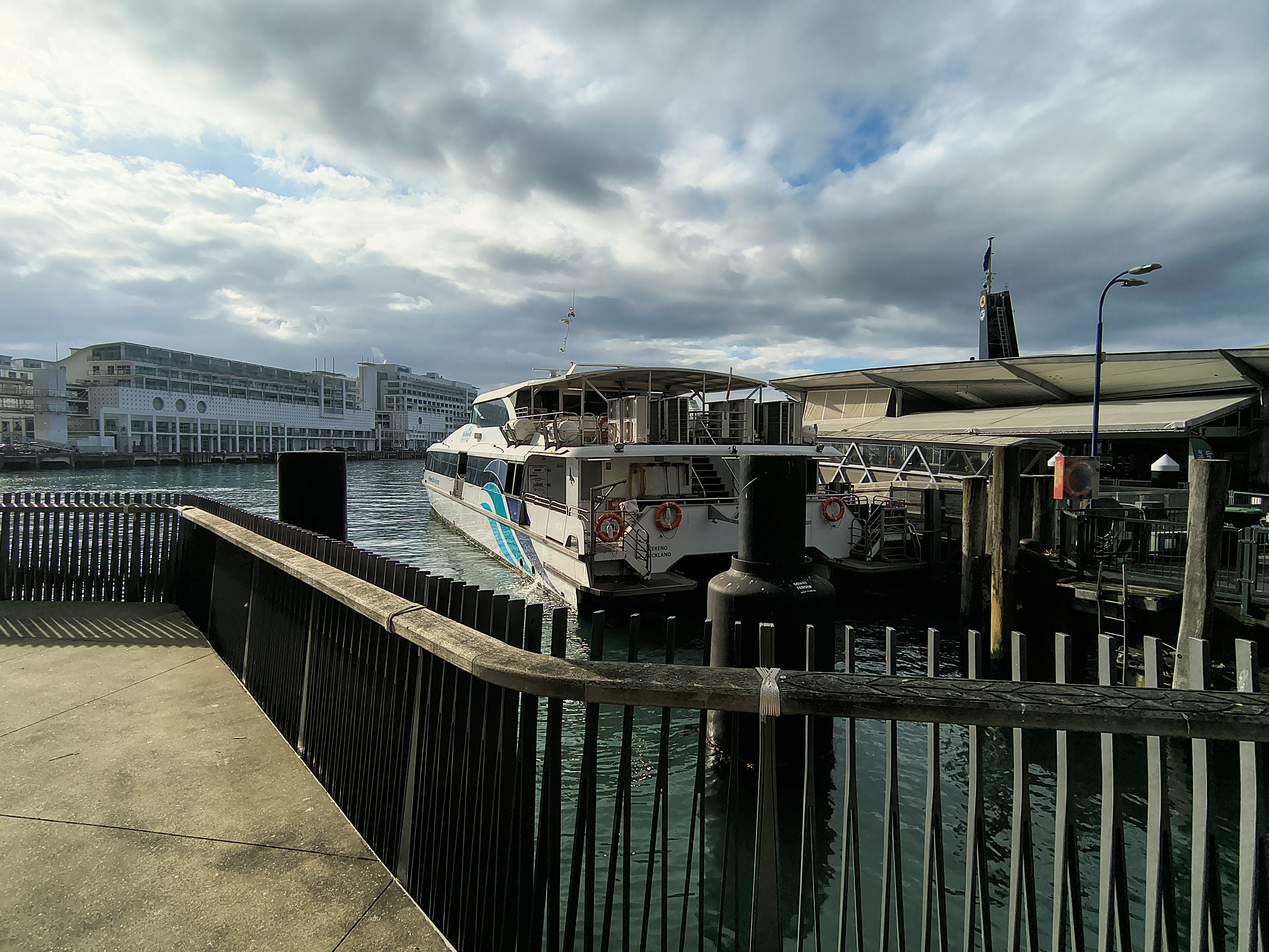ferry: (421, 365, 870, 618)
